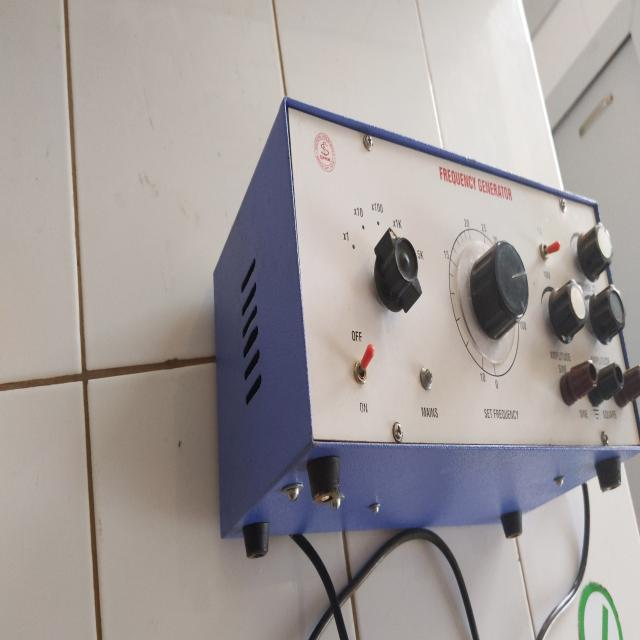Analog Frequency Generator: (270, 114, 640, 522)
